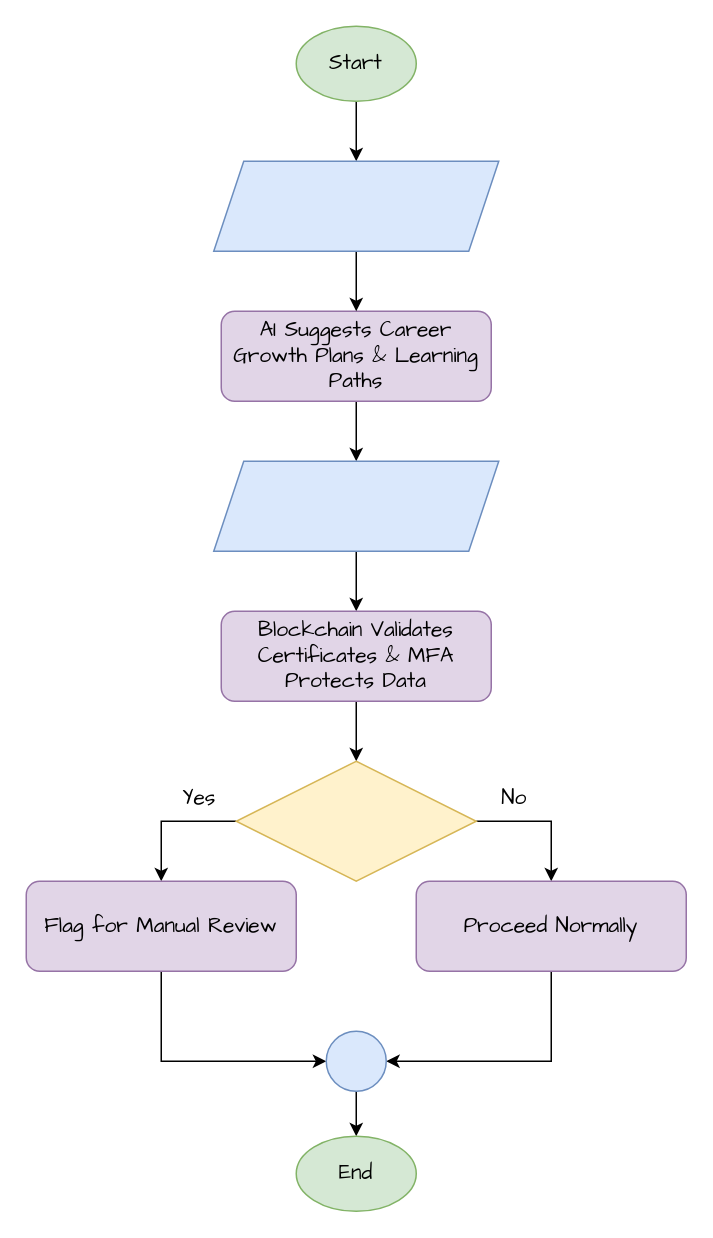
Some shapes in this 713 by 1238 pixel diagram are drawn without their labels. Each missing label, with the centre of its shape:
"AI Analyzes Job Seeker Profiles & Matches with Job Posts" belongs at (355,205).
"AI Filters & Prioritizes Job Listings for Companies" belongs at (355,505).
"Is Account Suspicious?" belongs at (355,820).
